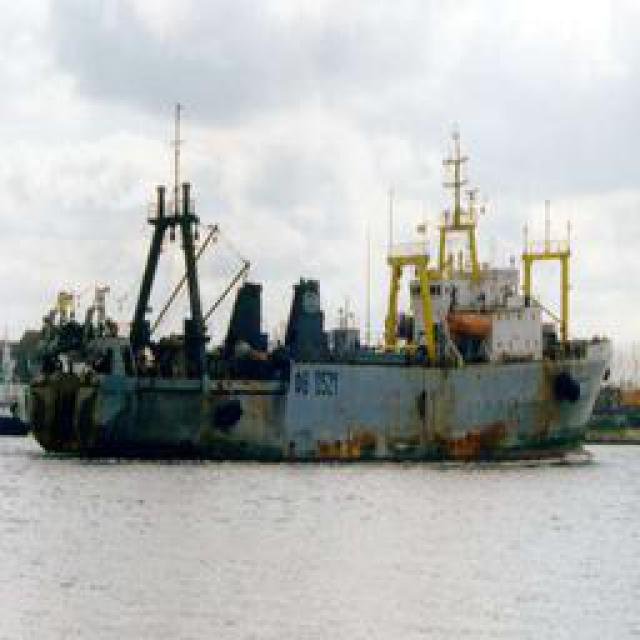Ship: (21, 114, 619, 469)
